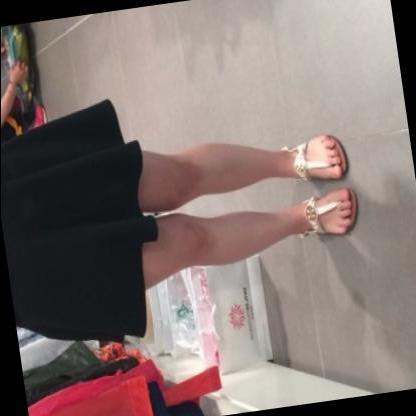no_safety-shoe: (281, 130, 366, 191), (294, 190, 375, 252)
